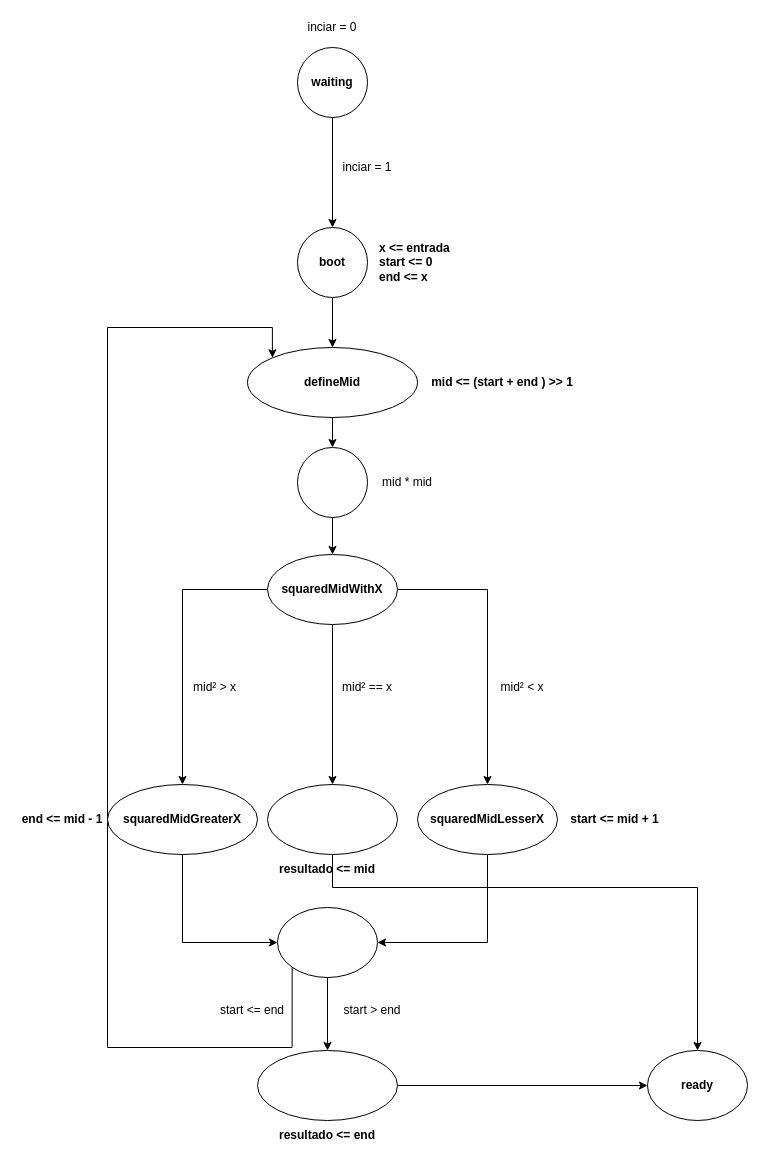
Some shapes in this 765 by 1167 pixel diagram are drawn without their labels. The centre of each missing label's shape, as x and y in pixels:
squaredMidEqualX: the point at 332,819
squareMid: the point at 332,482
startGreaterEnd: the point at 327,1085
startWIthEnd: the point at 327,942
